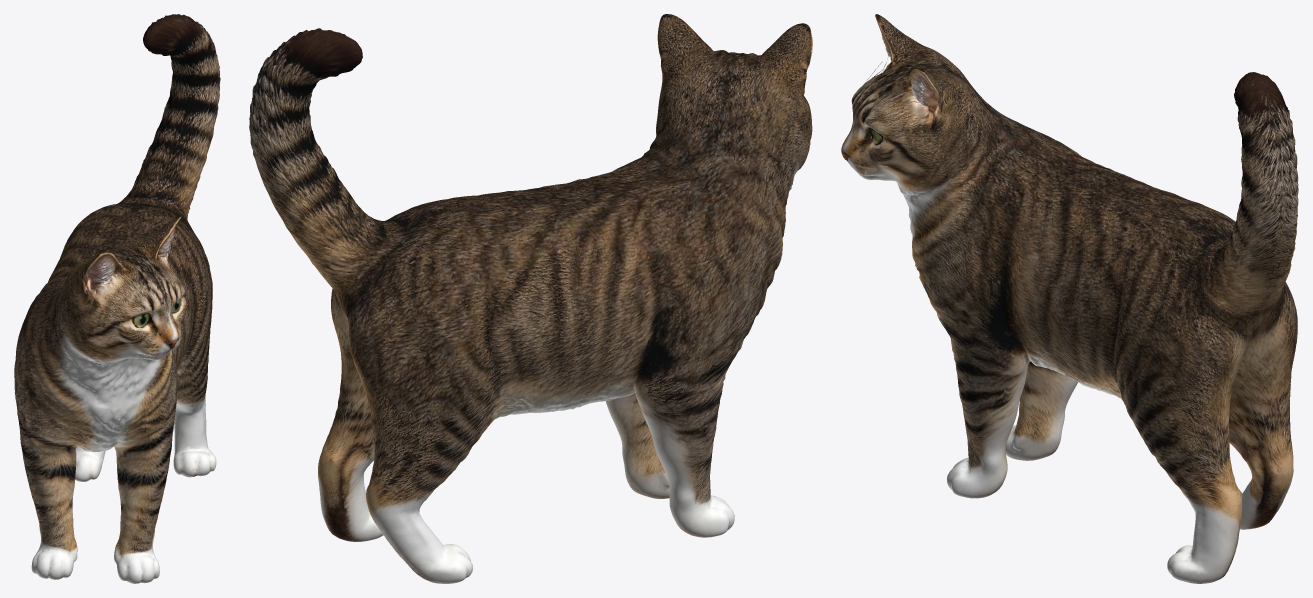
Rendered from cat.glb.
3 views of the same model, side by side, from view 1: azimuth 30°, elevation 25°; view 2: azimuth 150°, elevation 25°; view 3: azimuth 270°, elevation 25° (orthographic). The views are drawn at different scales.
Bounding box in the file's own units: 0.3734 × 0.5001 × 0.4146.
Materials: 1 (1 with a texture image).
